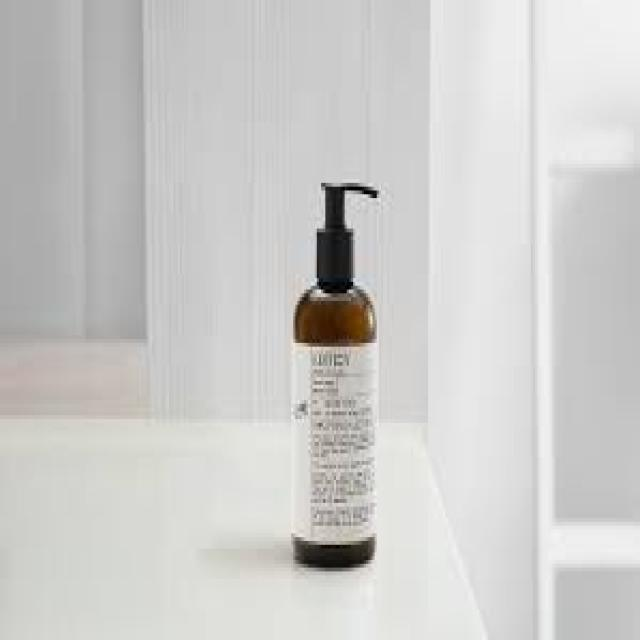liquid soap: (297, 166, 385, 569)
